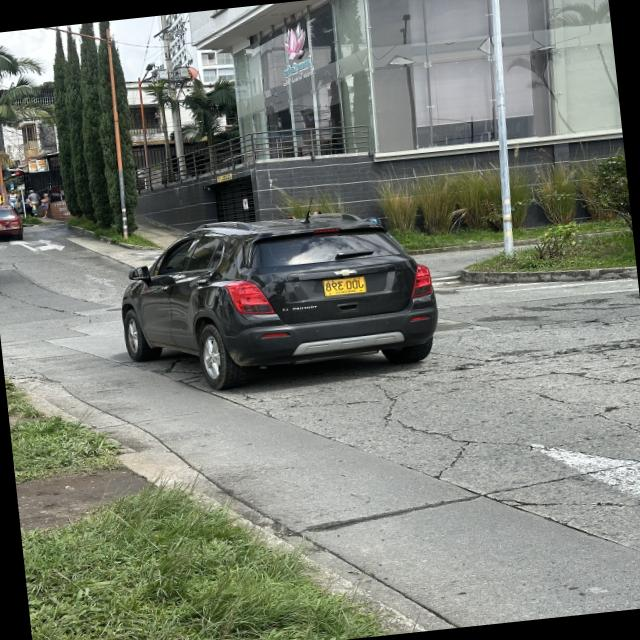number plate: (323, 276, 366, 296)
